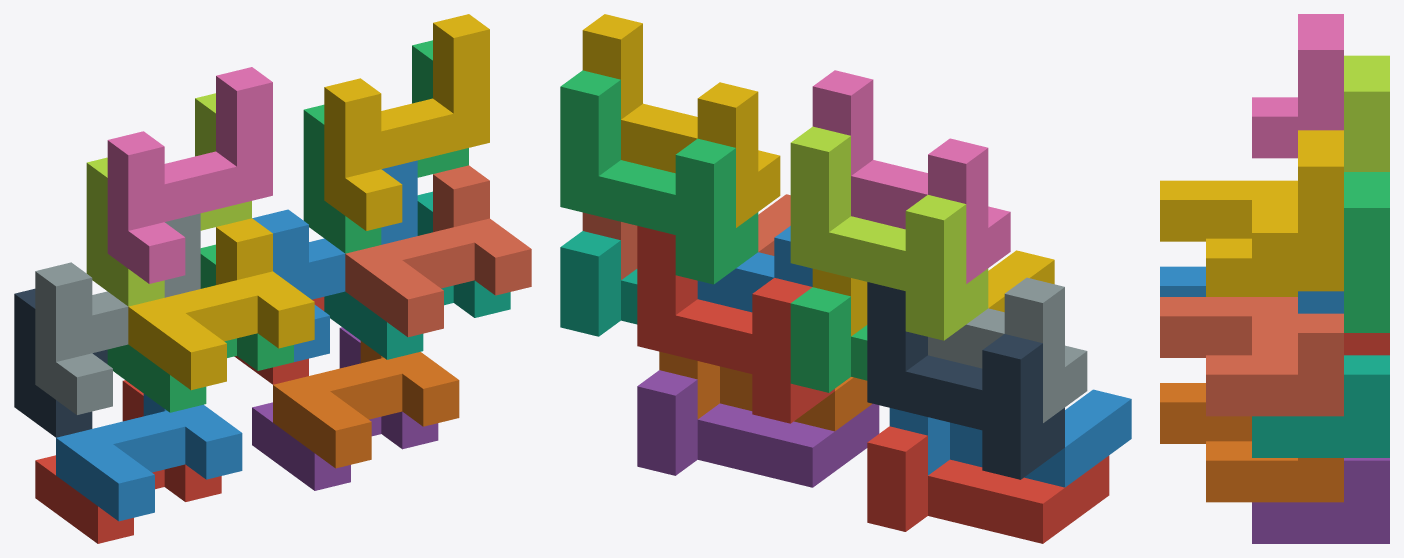
Rendered from tiling.obj.
3 renders of one model, left to right at view 1: azimuth 30°, elevation 25°; view 2: azimuth 150°, elevation 25°; view 3: azimuth 270°, elevation 25°, orthographic. The views are drawn at different scales.
Visible parts, largest first — view 1: copy_2_domain_4, copy_2_domain_8, copy_1_domain_4, copy_1_domain_8, copy_1_domain_2, copy_1_domain_6, copy_2_domain_2, copy_2_domain_6, copy_2_domain_7, copy_2_domain_3, copy_1_domain_5, copy_1_domain_1 (+4 smaller); view 2: copy_2_domain_3, copy_2_domain_7, copy_2_domain_1, copy_2_domain_5, copy_1_domain_1, copy_1_domain_5, copy_2_domain_4, copy_2_domain_8, copy_2_domain_2, copy_1_domain_2, copy_1_domain_7, copy_1_domain_3 (+4 smaller); view 3: copy_1_domain_8, copy_1_domain_6, copy_1_domain_4, copy_2_domain_8, copy_1_domain_7, copy_2_domain_4, copy_1_domain_5, copy_2_domain_7, copy_2_domain_3, copy_1_domain_2, copy_2_domain_5, copy_2_domain_6.
Part boxes in pixels (left/top/right/bottom): copy_2_domain_4: left=107, top=67, right=272, bottom=283; copy_2_domain_8: left=324, top=14, right=489, bottom=230; copy_1_domain_4: left=128, top=218, right=314, bottom=390; copy_1_domain_8: left=345, top=165, right=531, bottom=337; copy_1_domain_2: left=56, top=394, right=242, bottom=521; copy_1_domain_6: left=273, top=341, right=459, bottom=468; copy_2_domain_2: left=35, top=213, right=200, bottom=414; copy_2_domain_6: left=252, top=160, right=417, bottom=361; copy_2_domain_7: left=303, top=40, right=468, bottom=253; copy_2_domain_3: left=86, top=93, right=251, bottom=306; copy_1_domain_5: left=252, top=327, right=438, bottom=490; copy_1_domain_1: left=35, top=380, right=221, bottom=543; copy_2_domain_3: left=790, top=126, right=988, bottom=340; copy_2_domain_7: left=560, top=70, right=758, bottom=284; copy_2_domain_1: left=867, top=282, right=1064, bottom=479; copy_2_domain_5: left=637, top=226, right=834, bottom=423; copy_1_domain_1: left=867, top=426, right=1109, bottom=543; copy_1_domain_5: left=637, top=370, right=879, bottom=487; copy_2_domain_4: left=812, top=70, right=1010, bottom=283; copy_2_domain_8: left=582, top=14, right=780, bottom=227; copy_2_domain_2: left=928, top=277, right=1087, bottom=422; copy_1_domain_2: left=889, top=389, right=1131, bottom=487; copy_1_domain_7: left=560, top=231, right=637, bottom=336; copy_1_domain_3: left=790, top=287, right=867, bottom=392; copy_1_domain_8: left=1160, top=297, right=1343, bottom=416; copy_1_domain_6: left=1160, top=383, right=1343, bottom=502; copy_1_domain_4: left=1160, top=180, right=1297, bottom=296; copy_2_domain_8: left=1252, top=130, right=1343, bottom=291; copy_1_domain_7: left=1252, top=355, right=1389, bottom=457; copy_2_domain_4: left=1252, top=14, right=1343, bottom=158; copy_1_domain_5: left=1252, top=458, right=1389, bottom=543; copy_2_domain_7: left=1344, top=172, right=1389, bottom=332; copy_2_domain_3: left=1344, top=55, right=1389, bottom=171; copy_1_domain_2: left=1160, top=266, right=1205, bottom=296; copy_2_domain_5: left=1344, top=333, right=1389, bottom=355; copy_2_domain_6: left=1298, top=291, right=1343, bottom=313.
Size of the model in its own units: 12 by 10 by 5.
